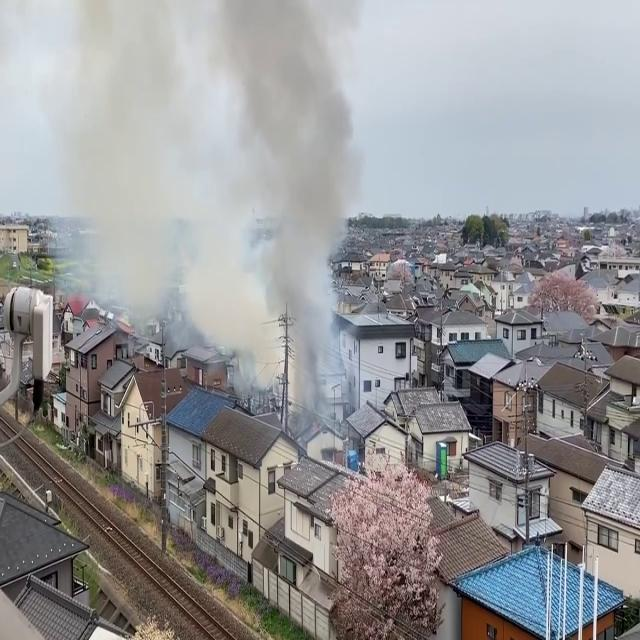Smoke: (42, 1, 358, 423)
